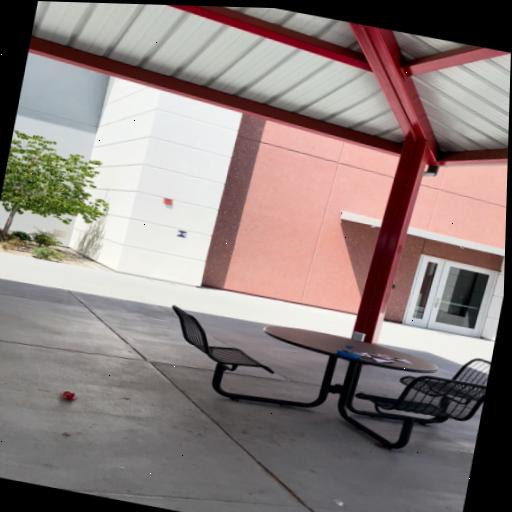target2: (175, 229, 188, 238)
